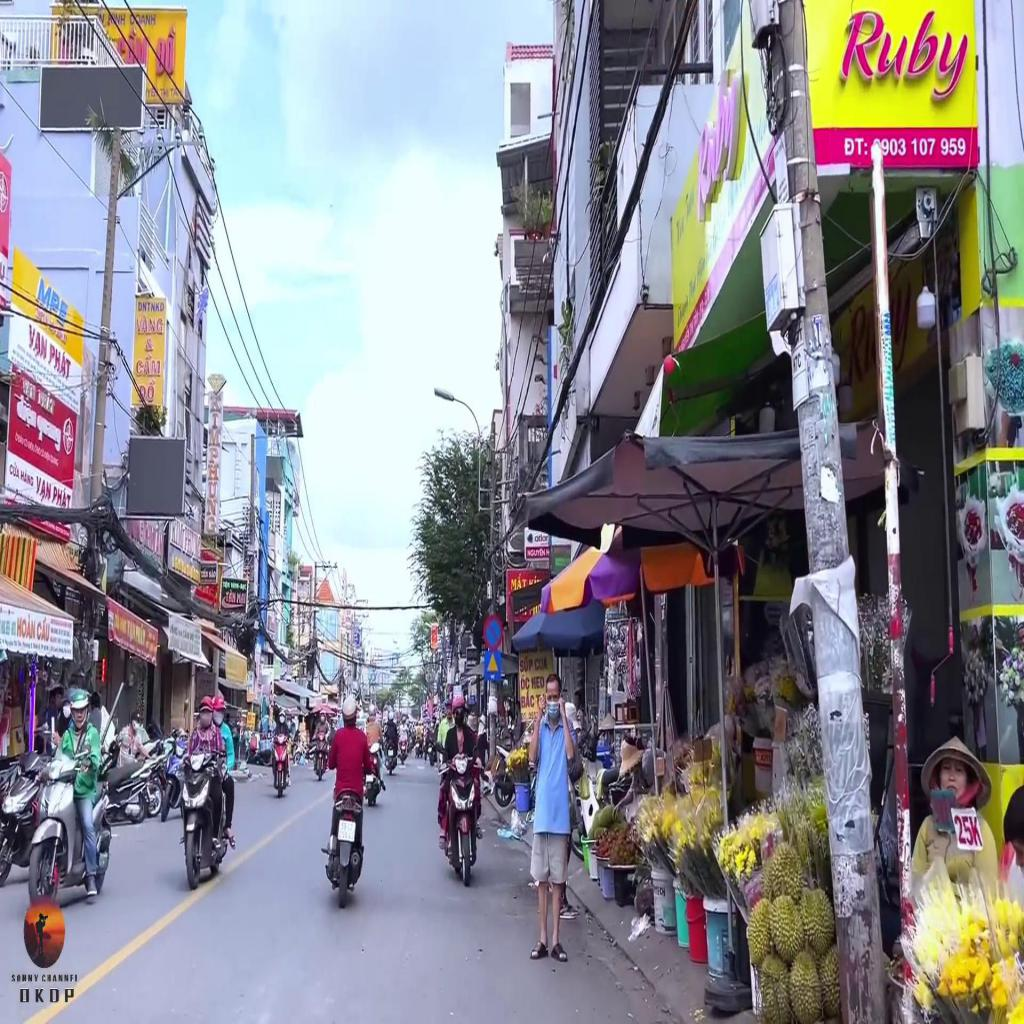cam_do_xe: (484, 614, 503, 650)
cho: (484, 650, 501, 679)
